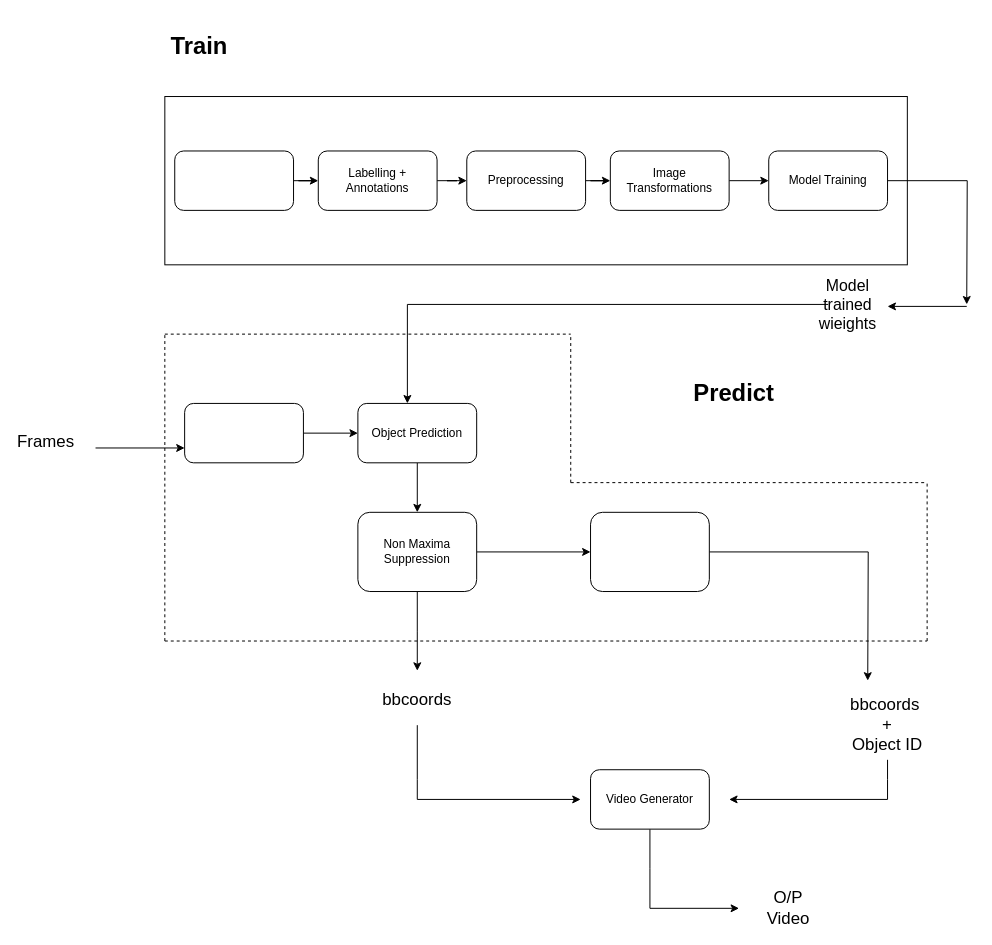
Image size: 992x945. Some labels were removed from this diagram. Here are the shapes that lost their labels. From the top down, the centre of each, then its label:
[234,180]: Video2Frame
[243,432]: Pre-Processing
[649,551]: Object Tracker
